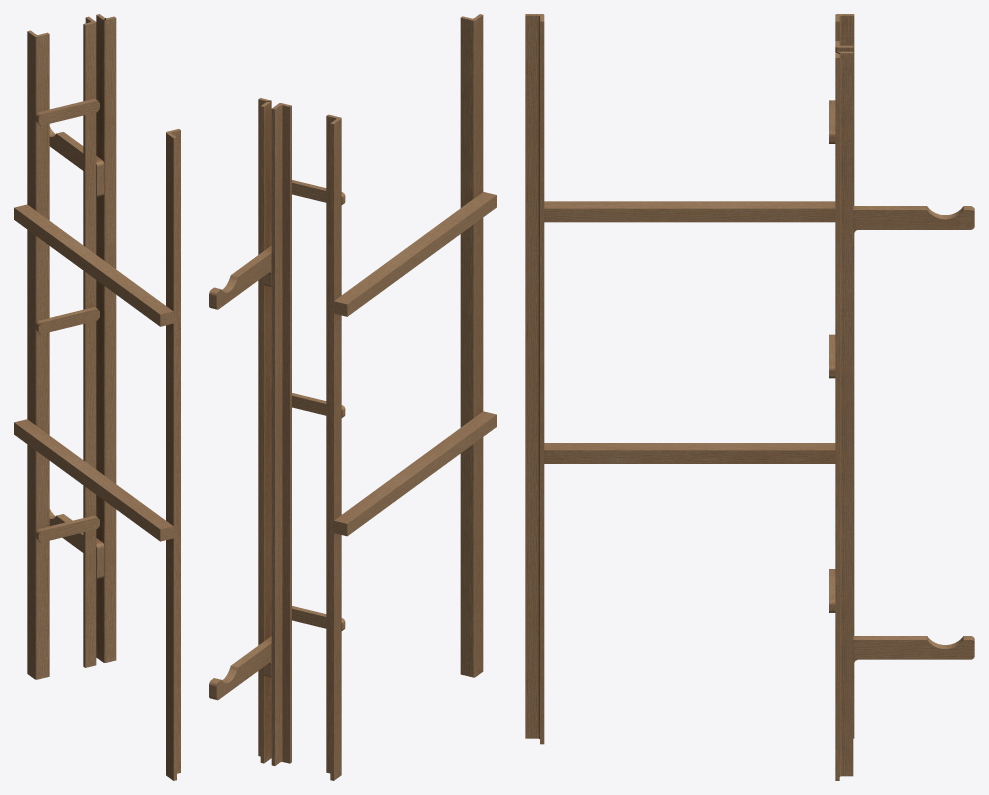
The picture shows the model from 3 angles, left to right: view 1: azimuth 30°, elevation 25°; view 2: azimuth 150°, elevation 25°; view 3: azimuth 270°, elevation 25°; orthographic projection. The views are drawn at different scales.
Visible parts, largest first — view 1: 5_阀侧支架; view 2: 5_阀侧支架; view 3: 5_阀侧支架.
Part boxes in pixels (box(x1,y1,x2,y2)): 5_阀侧支架: box(14, 14, 180, 780); 5_阀侧支架: box(209, 14, 496, 780); 5_阀侧支架: box(525, 14, 974, 780).
Size of the model in its own units: 14.33 by 93.98 by 52.96.
Materials: 1 (1 with a texture image).
